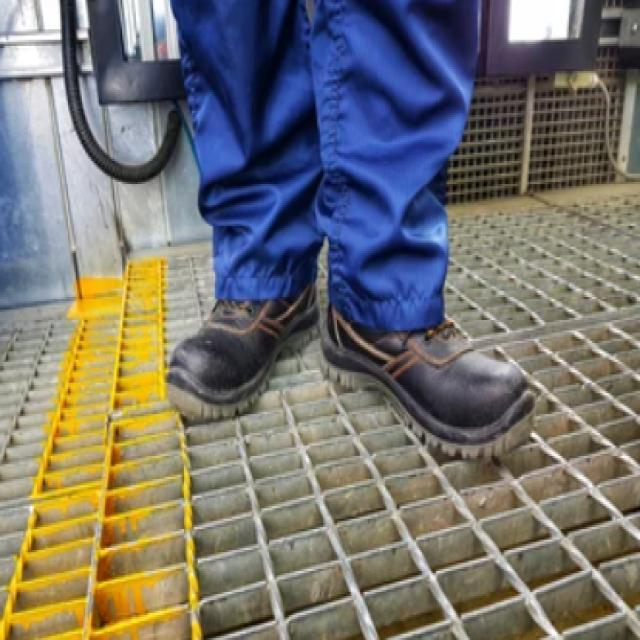boots: (159, 200, 541, 462)
